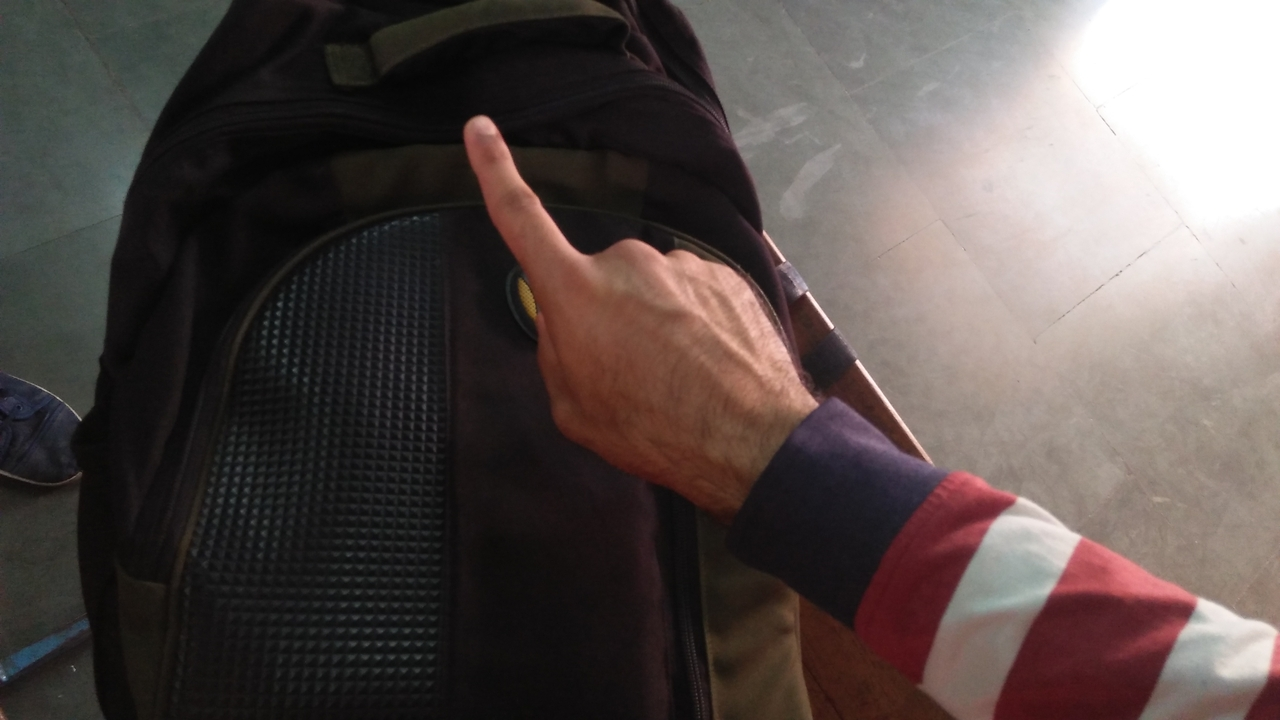fingertip: (456, 110, 508, 158)
